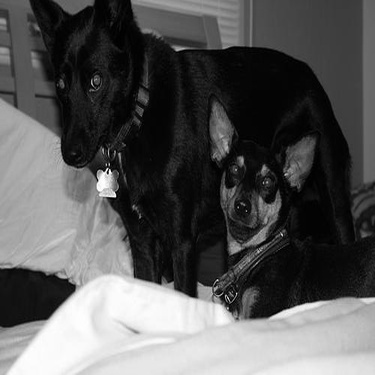dog: (13, 3, 372, 306), (192, 98, 372, 321)
